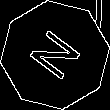N_SE: (23, 24, 87, 86)
